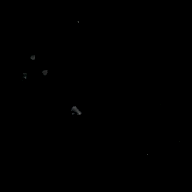v: (19, 51, 48, 79)
